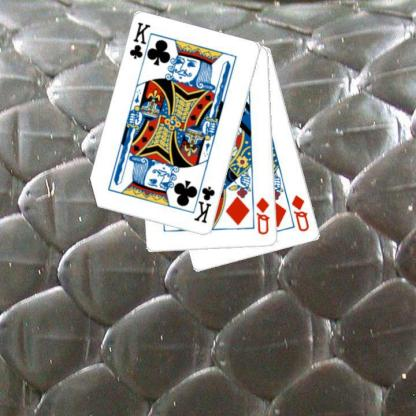KC: (127, 20, 154, 67), (190, 178, 216, 225)
QD: (289, 192, 311, 233), (254, 195, 271, 236)
